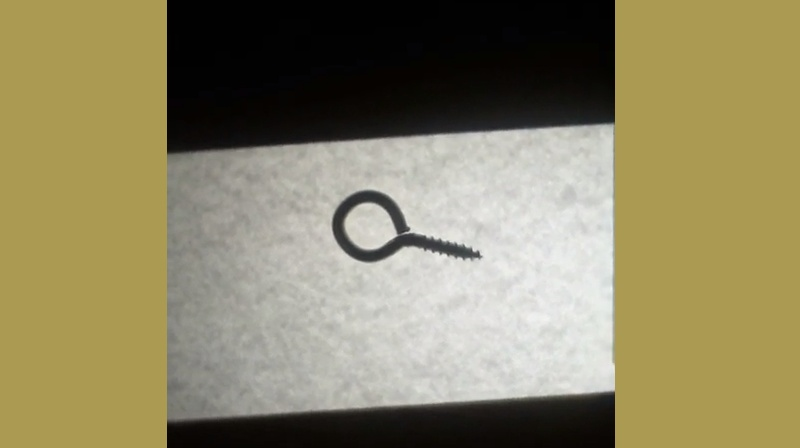O001: (330, 184, 485, 266)
